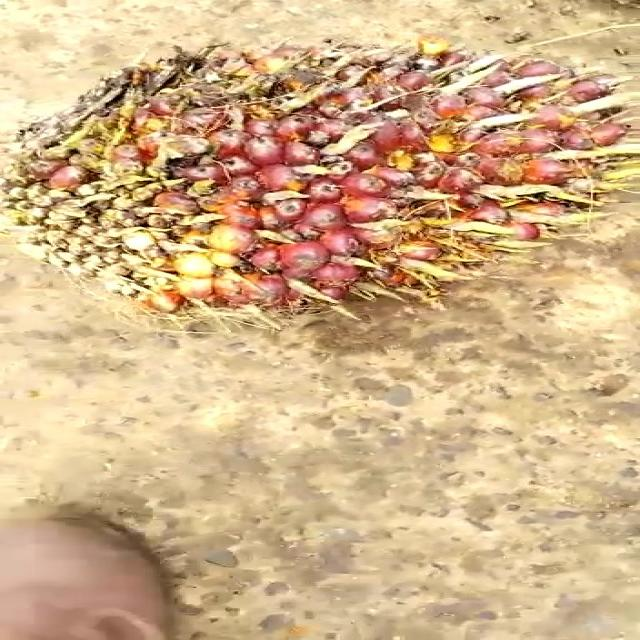palm oil: (0, 42, 637, 321)
